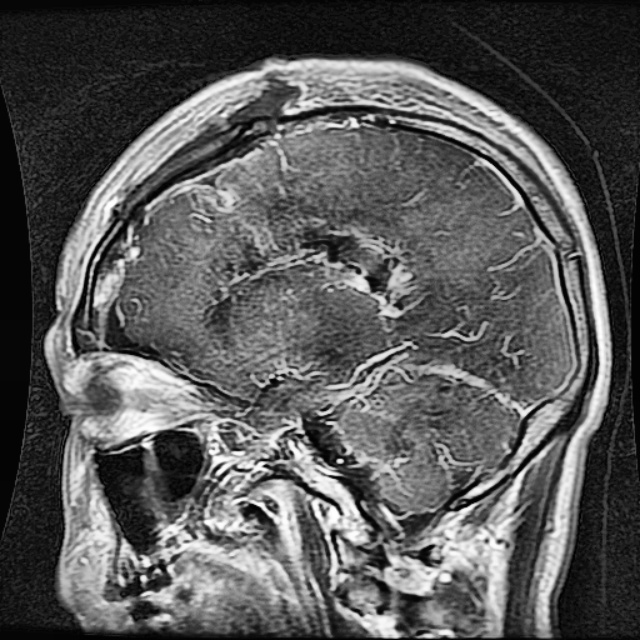Meningioma: (292, 238, 408, 313)
